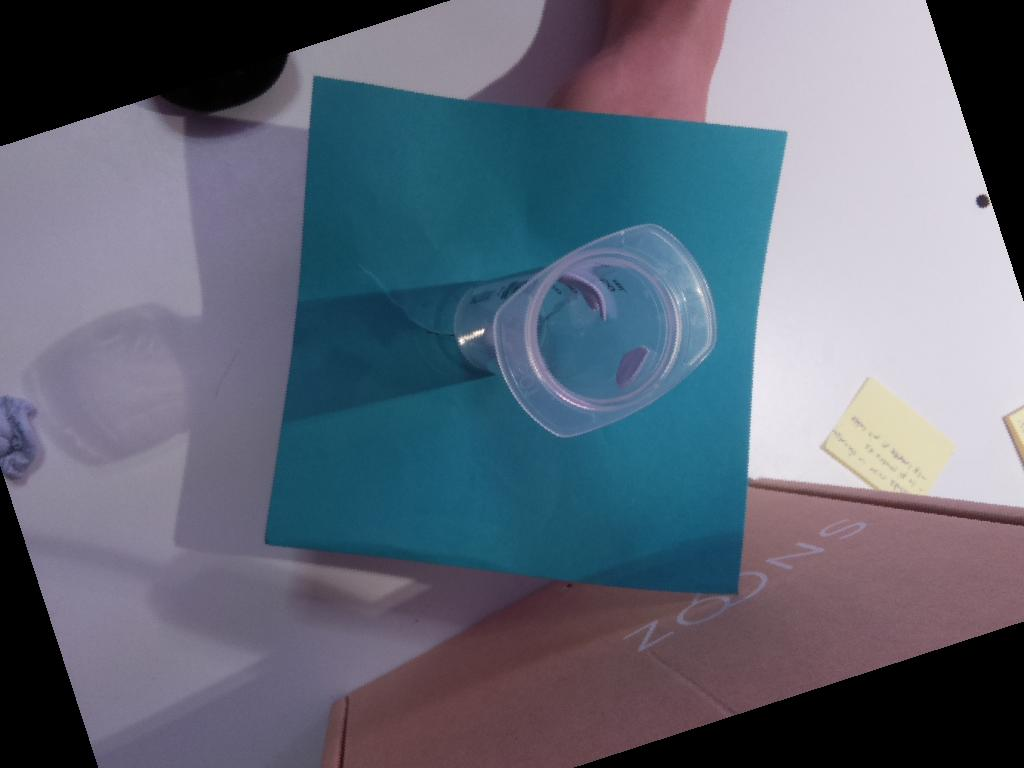dirty: (492, 222, 717, 438)
